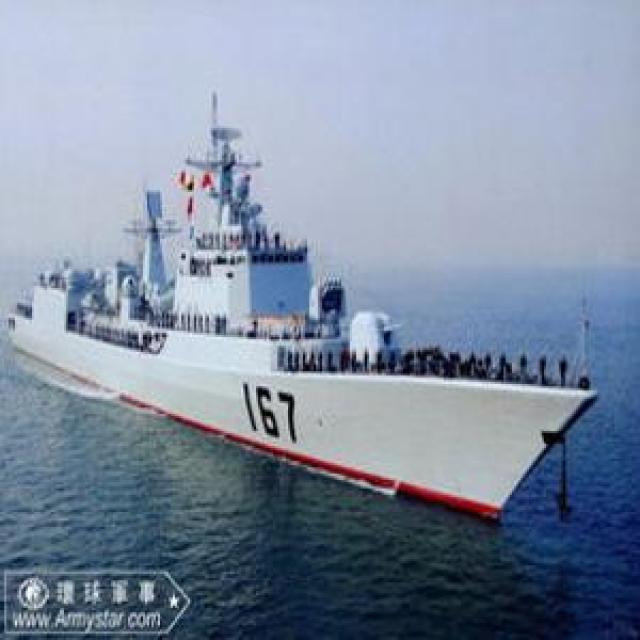navalvessels: (15, 90, 592, 522)
